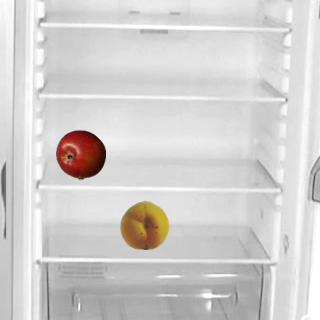Apple Braeburn: (55, 129, 105, 179)
Peach 2: (119, 199, 169, 249)
